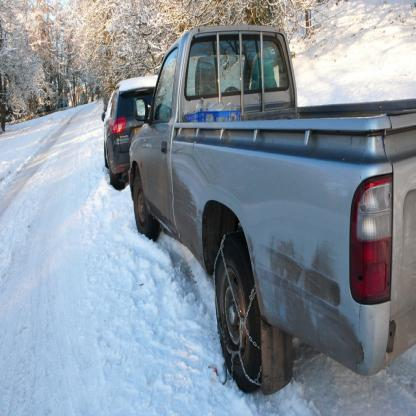Car: (103, 78, 159, 191)
